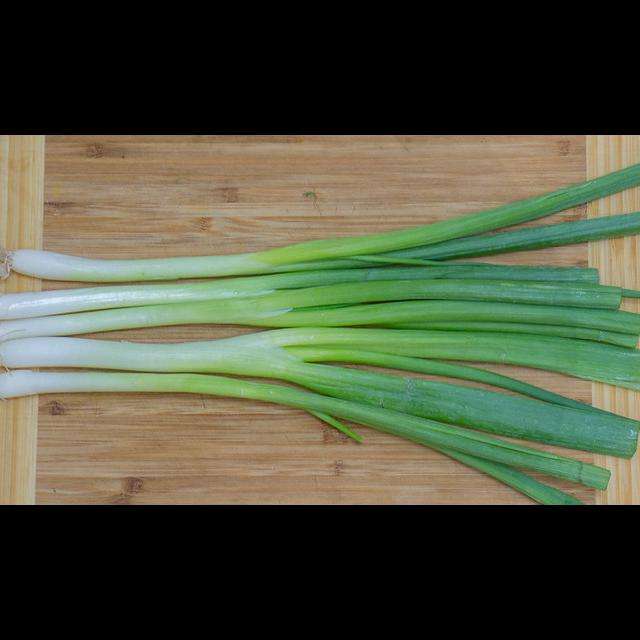green_onion: (0, 328, 640, 458), (0, 370, 612, 504), (0, 161, 640, 282), (0, 279, 640, 346), (0, 263, 600, 320)
